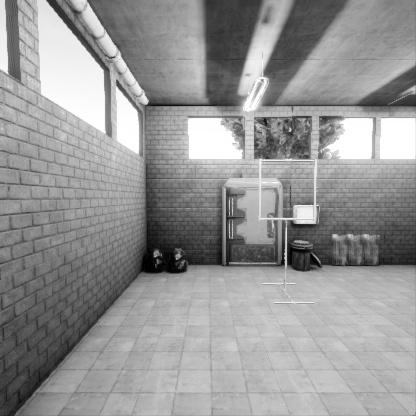gate: (259, 198, 321, 259)
